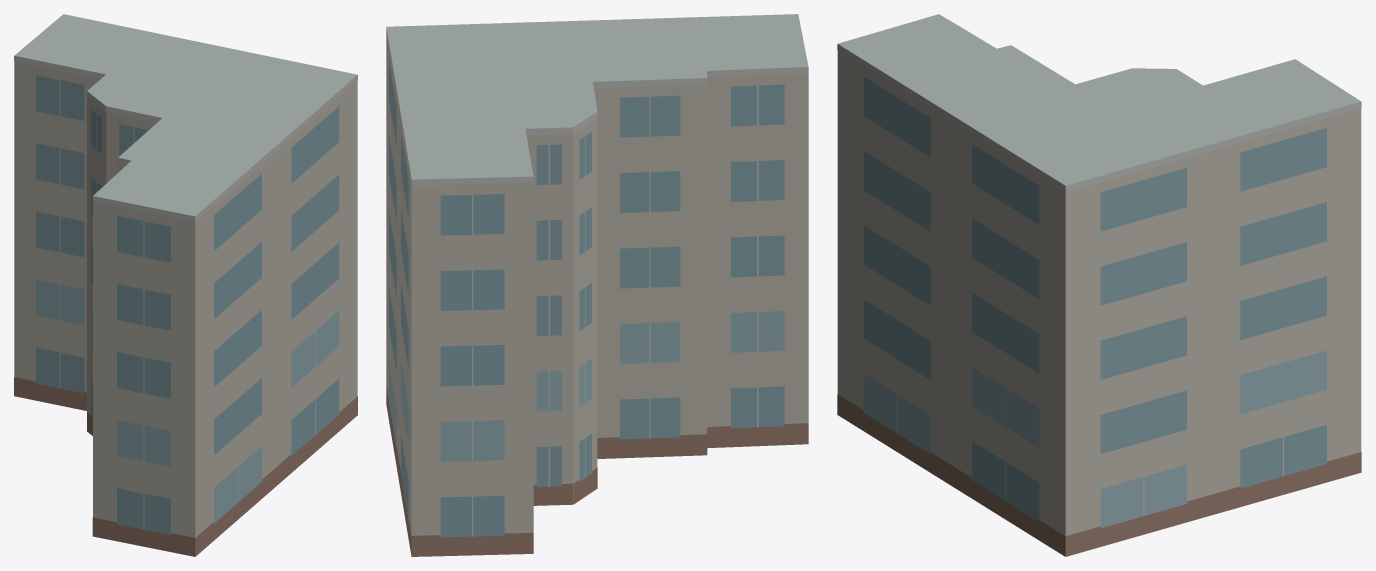
The model's file is survey-upis-32883433.glb.
3 views of the same model, side by side, from view 1: azimuth 30°, elevation 25°; view 2: azimuth 150°, elevation 25°; view 3: azimuth 270°, elevation 25° (orthographic). The views are drawn at different scales.
Parts seen in each view (by area): view 1: survey-upis-32883433.tmp; view 2: survey-upis-32883433.tmp; view 3: survey-upis-32883433.tmp.
Part boxes in pixels (bbox=[...]): survey-upis-32883433.tmp: bbox=[14, 14, 357, 556]; survey-upis-32883433.tmp: bbox=[386, 14, 808, 556]; survey-upis-32883433.tmp: bbox=[837, 14, 1361, 556].
Bounding box in the file's own units: 14.4 × 14.5 × 18.56.
